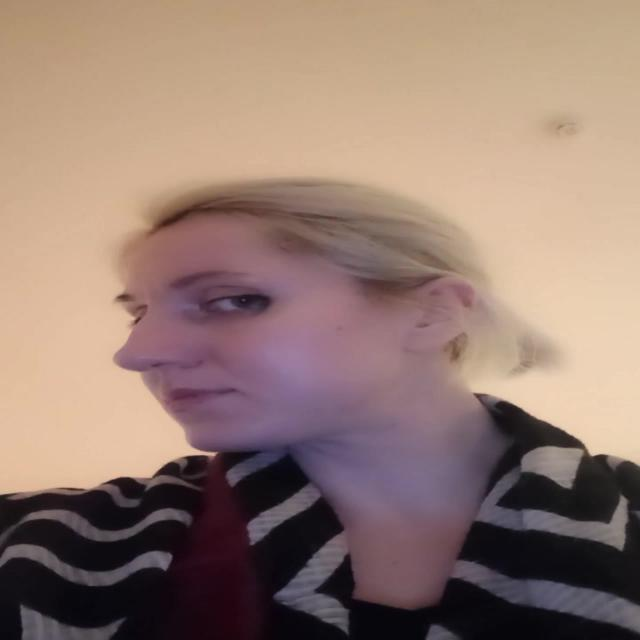earlobe: (401, 325, 442, 354)
eye: (200, 293, 267, 316)
nose: (111, 353, 210, 396)
wholeear: (399, 276, 479, 353)
